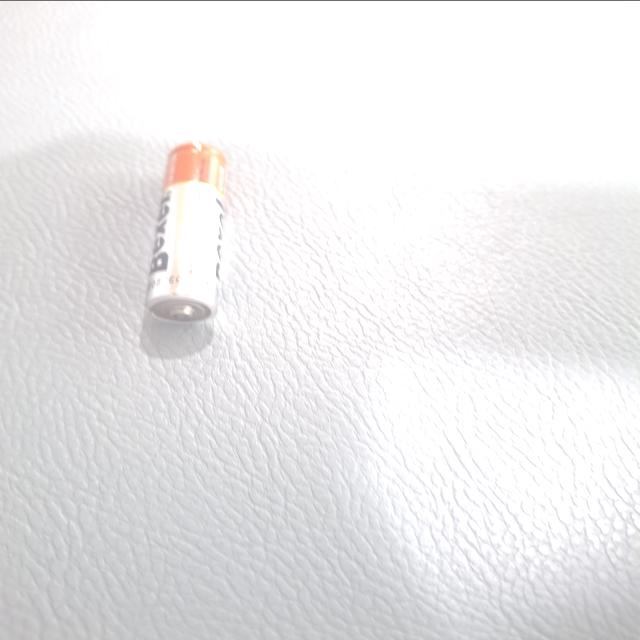AAA: (188, 469, 430, 532)
